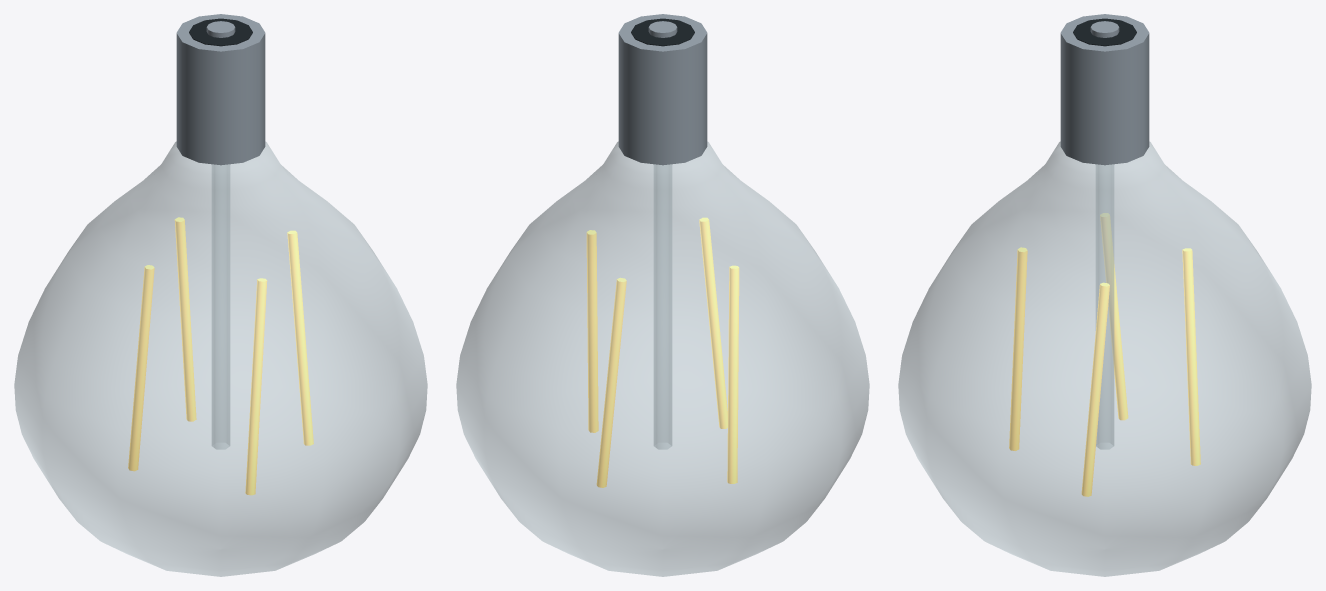
Rendered from source.glb.
The picture shows the model from 3 angles, left to right: view 1: azimuth 30°, elevation 25°; view 2: azimuth 150°, elevation 25°; view 3: azimuth 270°, elevation 25°; orthographic projection.
Parts seen in each view (by area): view 1: 光学透明件, 机加工金属, Emitters, 密封及绝缘件; view 2: 光学透明件, 机加工金属, Emitters, 密封及绝缘件; view 3: 光学透明件, 机加工金属, Emitters, 密封及绝缘件.
Part boxes in pixels (x1,y1,x2,y2): 光学透明件: (14, 141, 427, 576); 机加工金属: (176, 14, 265, 165); Emitters: (128, 217, 313, 495); 密封及绝缘件: (189, 18, 252, 46); 光学透明件: (456, 141, 869, 576); 机加工金属: (618, 14, 707, 165); Emitters: (586, 217, 739, 487); 密封及绝缘件: (631, 18, 694, 46); 光学透明件: (898, 141, 1311, 576); 机加工金属: (1060, 14, 1149, 165); Emitters: (1009, 213, 1200, 496); 密封及绝缘件: (1073, 18, 1136, 46).
Bounding box in the file's own units: 0.1254 × 0.1749 × 0.1254.
